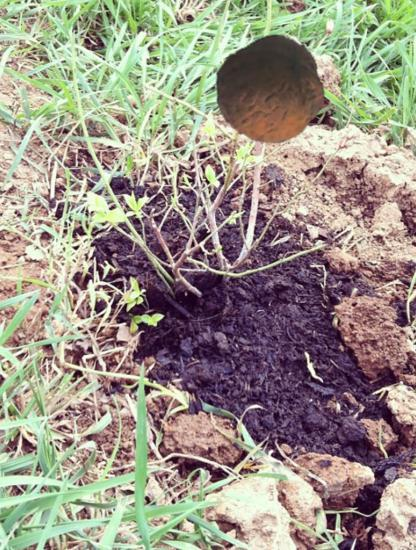Walnut: (215, 33, 326, 144)
